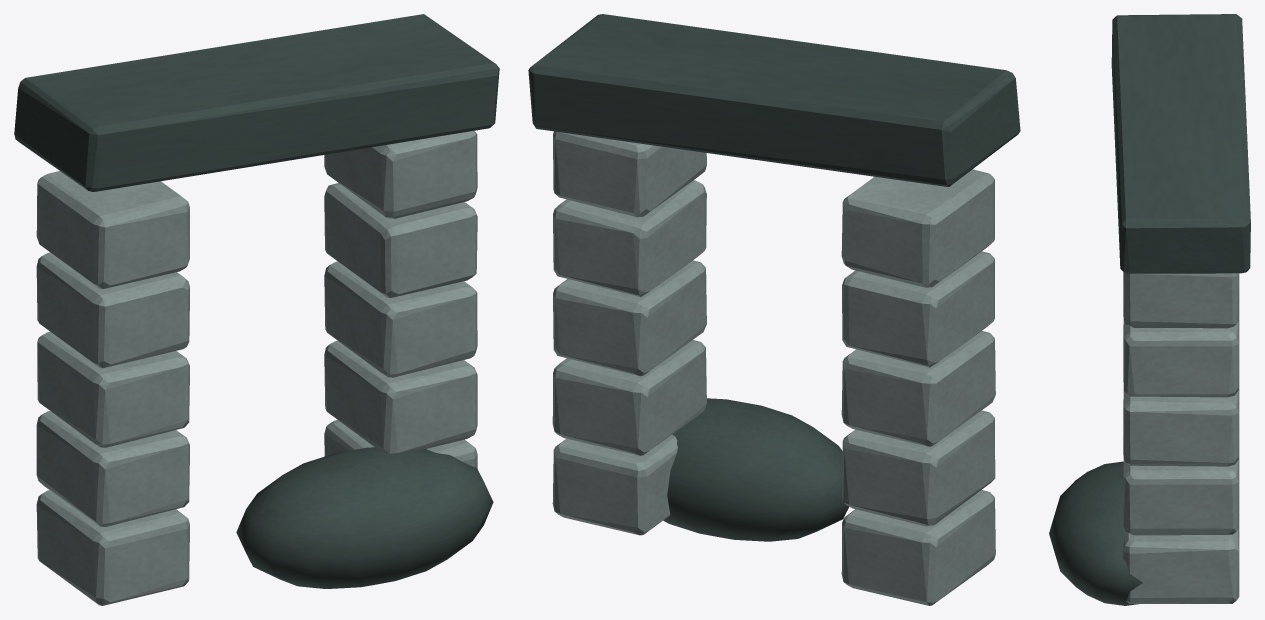
File: SM_ruin_LOD1.fbx
3 renders of one model, left to right at view 1: azimuth 30°, elevation 25°; view 2: azimuth 150°, elevation 25°; view 3: azimuth 270°, elevation 25°, orthographic. The views are drawn at different scales.
Parts seen in each view (by area): view 1: SM_ruin_LOD1; view 2: SM_ruin_LOD1; view 3: SM_ruin_LOD1.
Boxes of the visible parts, bbox=[...] form: SM_ruin_LOD1: bbox=[14, 14, 499, 605]; SM_ruin_LOD1: bbox=[528, 14, 1020, 605]; SM_ruin_LOD1: bbox=[1049, 14, 1250, 605].
Size of the model in its own units: 1.67 by 0.7938 by 1.96.
